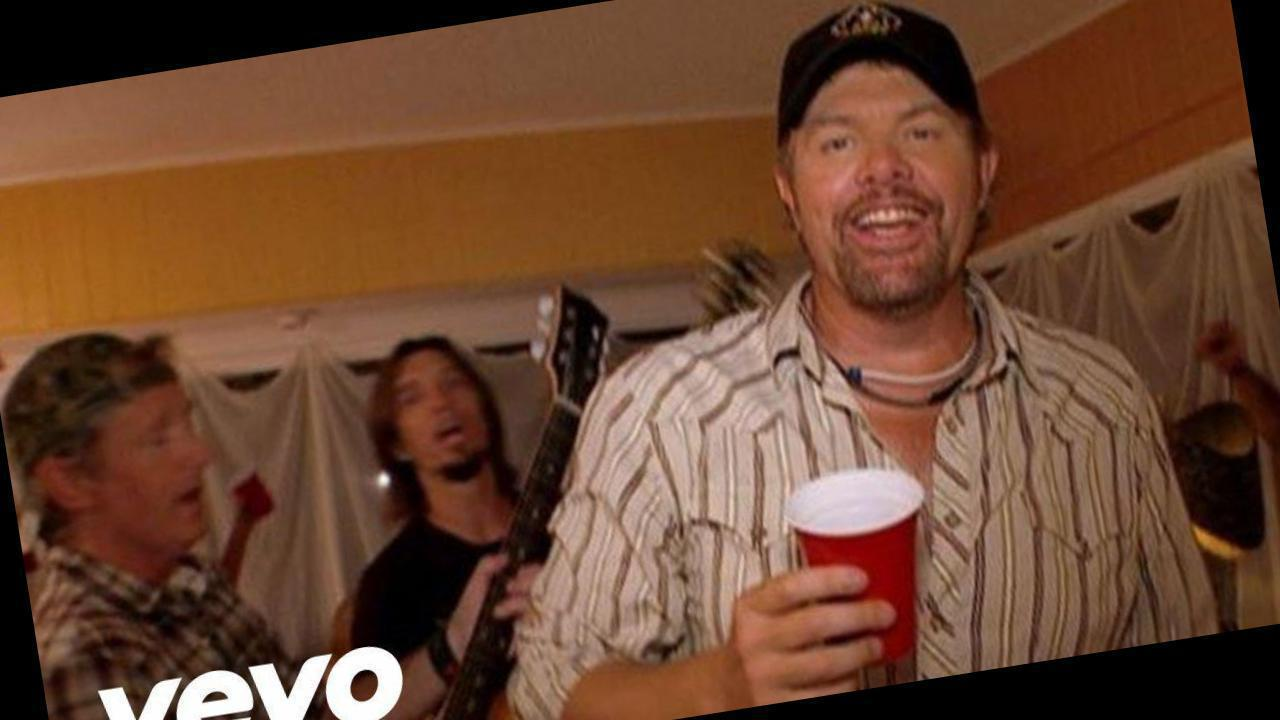Drunk: (799, 79, 986, 304)
